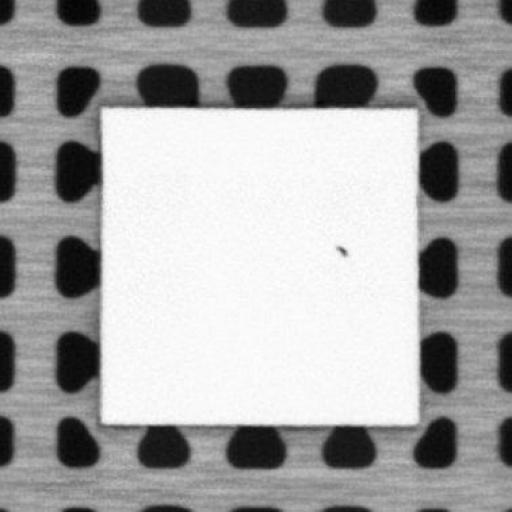DIE_INK: (332, 239, 348, 258)
